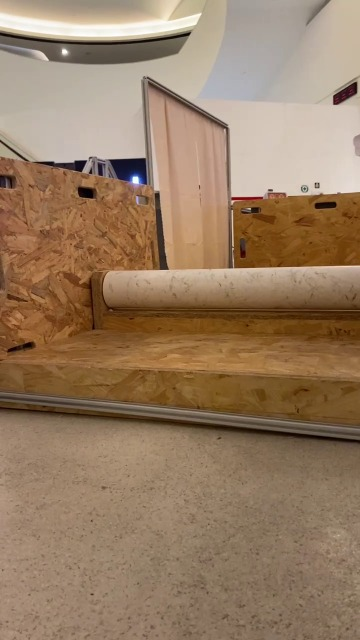curtain: (144, 77, 216, 275)
